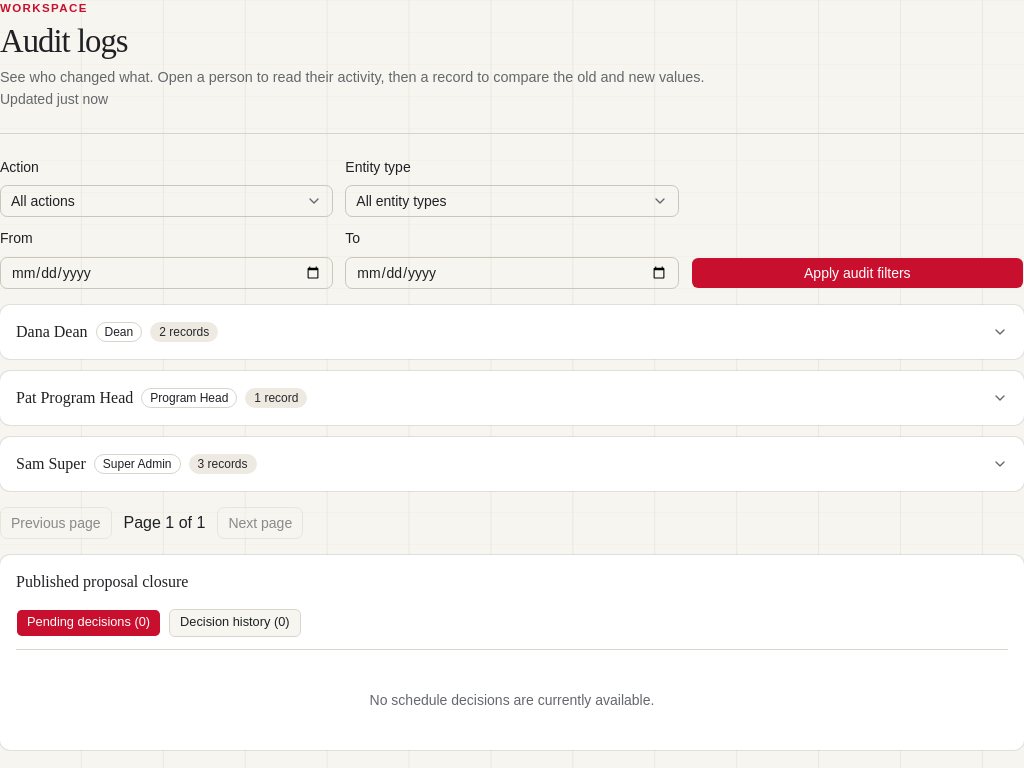
Test: AuditLogsWorkspace › loads a person's records when their card opens and compares old with new
This screenshot has width=1024, height=768.
Click the button "Dana Dean Dean 2 records": (52, 331) [16,321,1008,343]
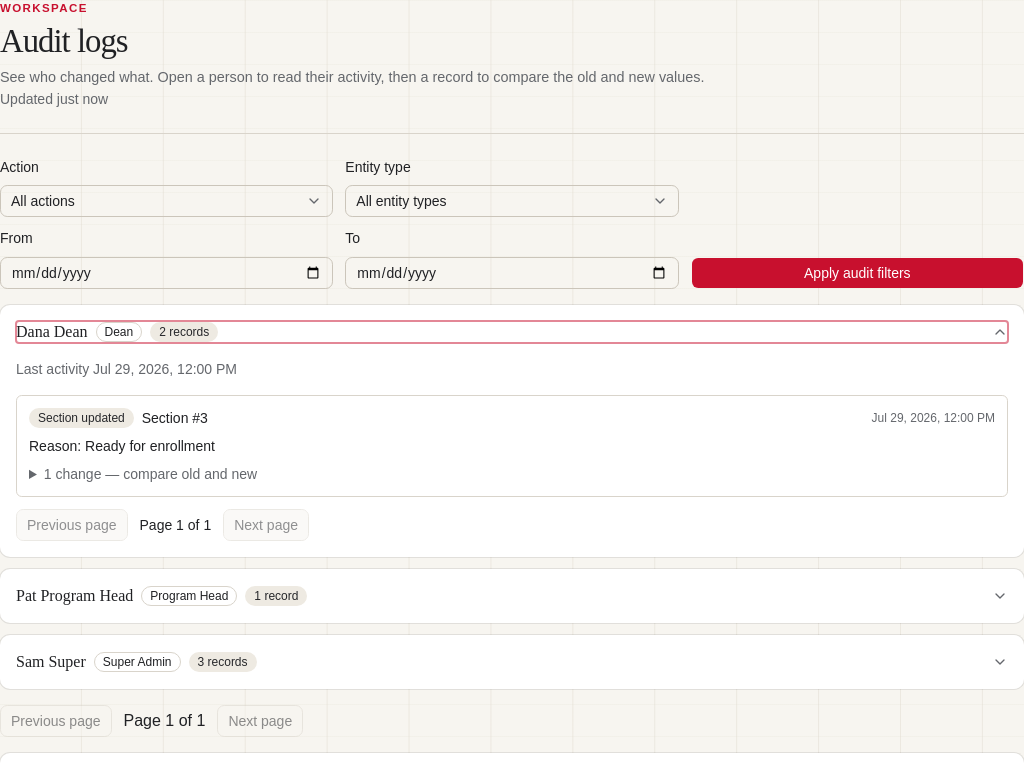
Check: the text "Section updated" is shown, box [29,408,134,428]
Check: the text "Section #3" is shown, box [142,408,208,428]
Check: the text "Reason: Ready for enrollment" is shown, box [29,438,215,454]
Click the heading "1 change — compare old and new": (150, 474) [44,466,257,482]
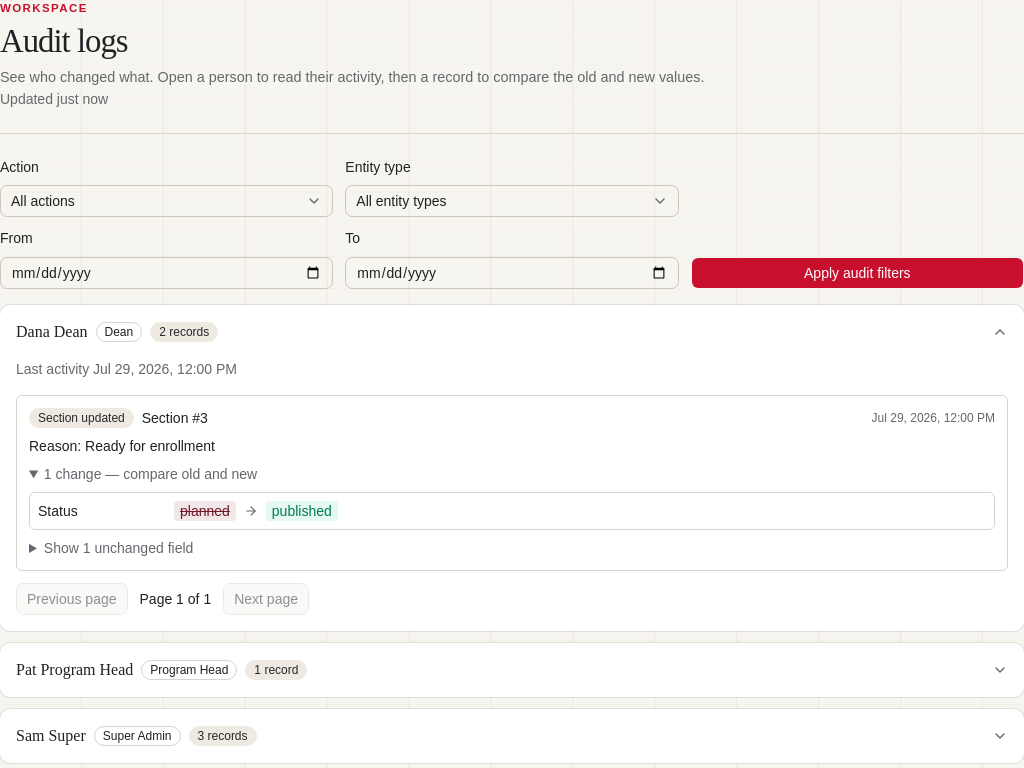
Check: the text "Status" is shown, box [38,503,78,519]
Check: the text "planned" is shown, box [174,501,236,521]
Check: the text "published" is shown, box [266,501,338,521]
